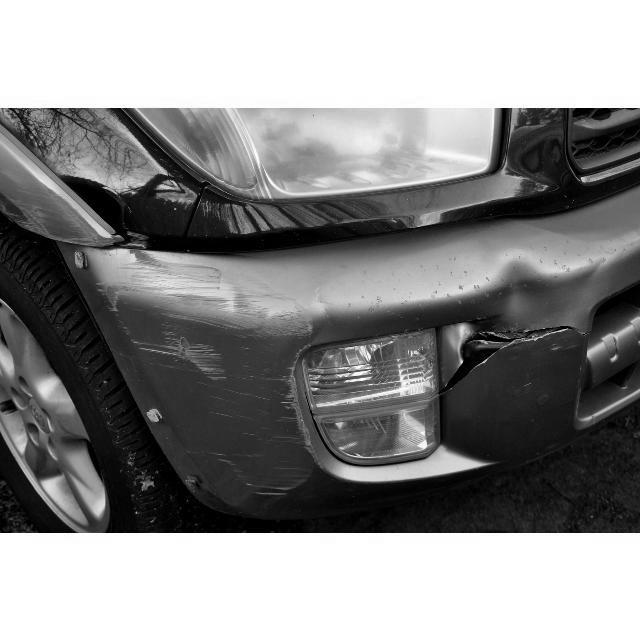front-bumper-dent: (95, 253, 639, 503)
